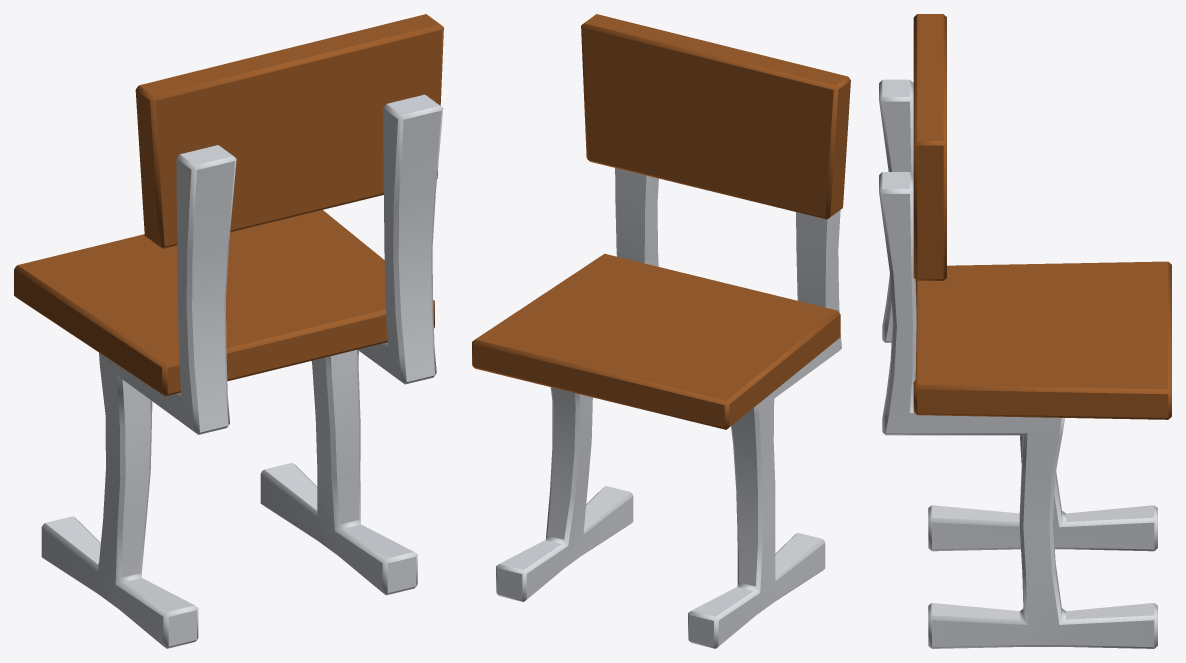
Rendered from Chair.fbx.
3 renders of one model, left to right at view 1: azimuth 30°, elevation 25°; view 2: azimuth 150°, elevation 25°; view 3: azimuth 270°, elevation 25°, orthographic. The views are drawn at different scales.
Parts seen in each view (by area): view 1: Chair; view 2: Chair; view 3: Chair.
Boxes of the visible parts, x1,y1,x2,y2 form: Chair: (14,14,443,648); Chair: (472,14,850,648); Chair: (879,14,1171,648).
Bounding box in the file's own units: 0.5134 × 0.9389 × 0.4827.
